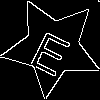E: (27, 22, 77, 77)
